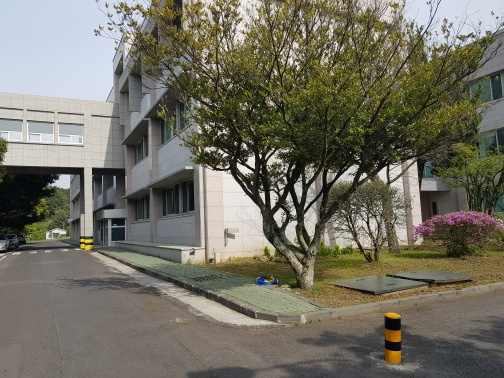College of Nursing: (85, 23, 499, 231)
